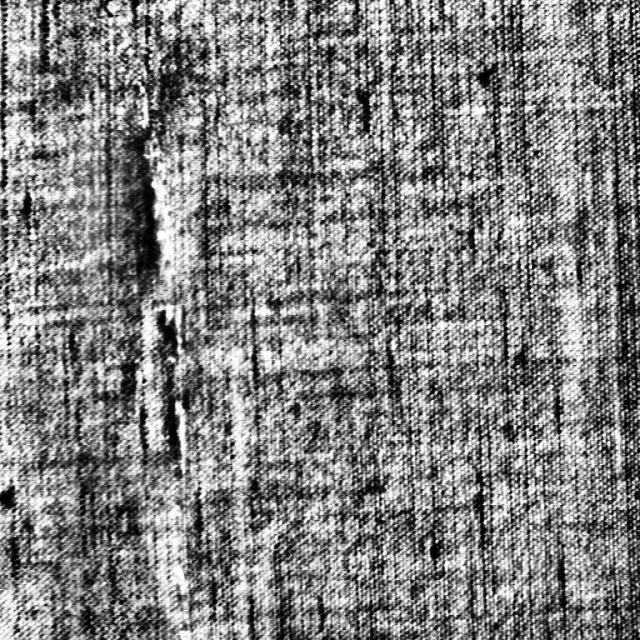gray stitch: (133, 75, 177, 279), (149, 300, 187, 478)
